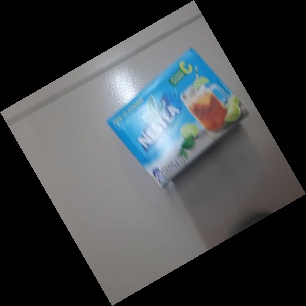Nestea: (105, 46, 250, 189)
